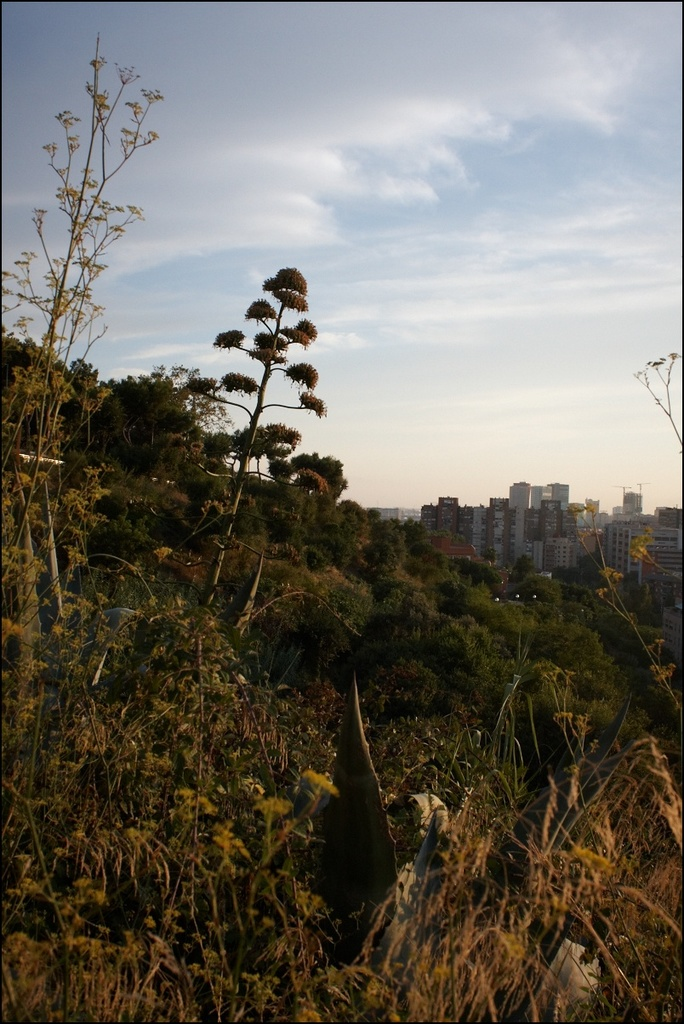Tree: (246, 506, 683, 778), (0, 35, 165, 702), (182, 247, 341, 524), (66, 359, 237, 488)
